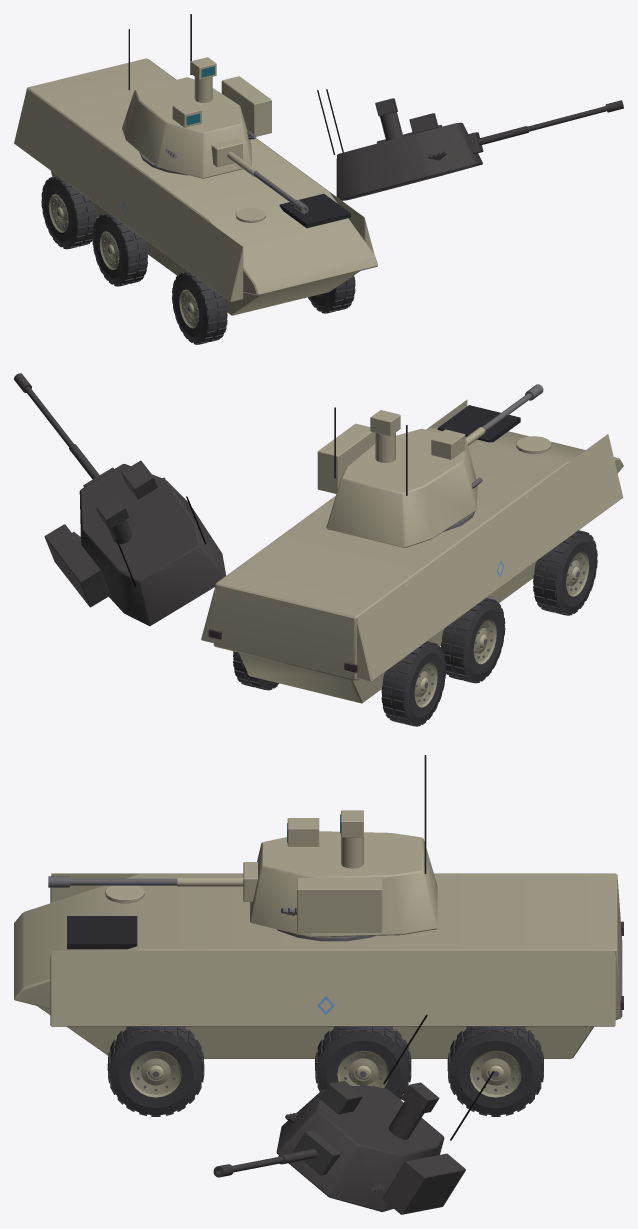
File: reconVehicle__ebrc_jaguar.glb
3 views of the same model, one above another, from view 1: azimuth 30°, elevation 25°; view 2: azimuth 150°, elevation 25°; view 3: azimuth 270°, elevation 25° (orthographic). The views are drawn at different scales.
Parts seen in each view (by area): view 1: Hull_Mesh, Turret_Mesh, Wreck, Wheel_L2_Mesh, Wheel_L1_Mesh, Wheel_L0_Mesh, Gun_Mesh, Wheel_R2_Mesh; view 2: Hull_Mesh, Wreck, Turret_Mesh, Wheel_L2_Mesh, Wheel_L0_Mesh, Wheel_L1_Mesh, Gun_Mesh, Wheel_R0_Mesh; view 3: Hull_Mesh, Turret_Mesh, Wreck, Wheel_R2_Mesh, Wheel_R0_Mesh, Wheel_R1_Mesh, Gun_Mesh.
Boxes of the visible parts, left/top/right/bottom form: Hull_Mesh: left=14, top=58, right=377, bottom=315; Turret_Mesh: left=122, top=14, right=271, bottom=178; Wreck: left=66, top=89, right=623, bottom=344; Wheel_L2_Mesh: left=172, top=271, right=227, bottom=344; Wheel_L1_Mesh: left=92, top=213, right=147, bottom=286; Wheel_L0_Mesh: left=41, top=175, right=96, bottom=249; Gun_Mesh: left=211, top=139, right=308, bottom=213; Wheel_R2_Mesh: left=308, top=275, right=355, bottom=313; Hull_Mesh: left=201, top=399, right=623, bottom=703; Wreck: left=14, top=373, right=577, bottom=722; Turret_Mesh: left=317, top=407, right=482, bottom=547; Wheel_L2_Mesh: left=533, top=530, right=597, bottom=615; Wheel_L0_Mesh: left=381, top=641, right=446, bottom=726; Wheel_L1_Mesh: left=441, top=598, right=505, bottom=683; Gun_Mesh: left=465, top=384, right=543, bottom=445; Wheel_R0_Mesh: left=233, top=651, right=278, bottom=690; Hull_Mesh: left=14, top=873, right=623, bottom=1058; Turret_Mesh: left=250, top=755, right=437, bottom=937; Wreck: left=166, top=1014, right=512, bottom=1214; Wheel_R2_Mesh: left=107, top=1026, right=204, bottom=1116; Wheel_R0_Mesh: left=447, top=1026, right=543, bottom=1116; Wheel_R1_Mesh: left=315, top=1026, right=411, bottom=1099; Gun_Mesh: left=48, top=862, right=257, bottom=901.
Size of what is drawn, in the model's own units: 8.35 by 3.93 by 7.36.
